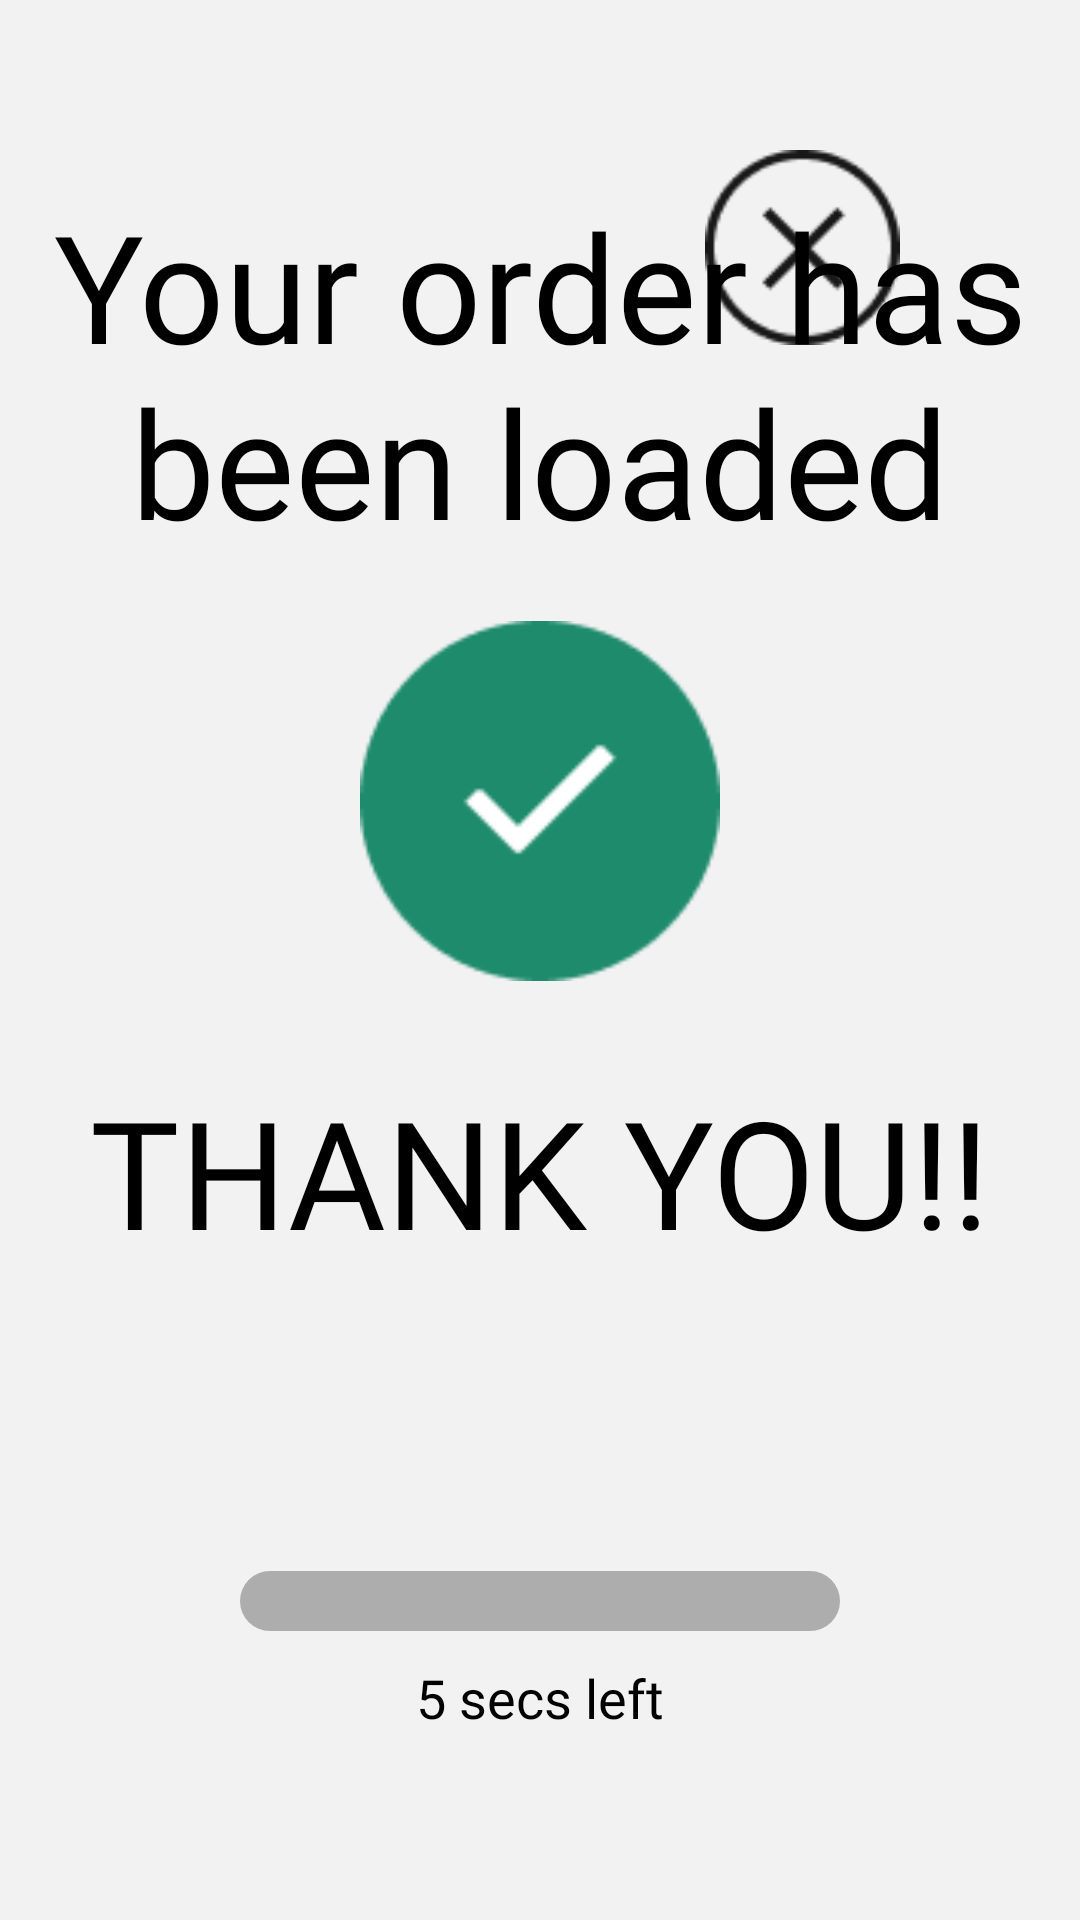

Icon bounding boxes for this 1080 × 1920 phone screenshot, format (x1, y1, x2, y2):
success: (360, 621, 720, 981)
